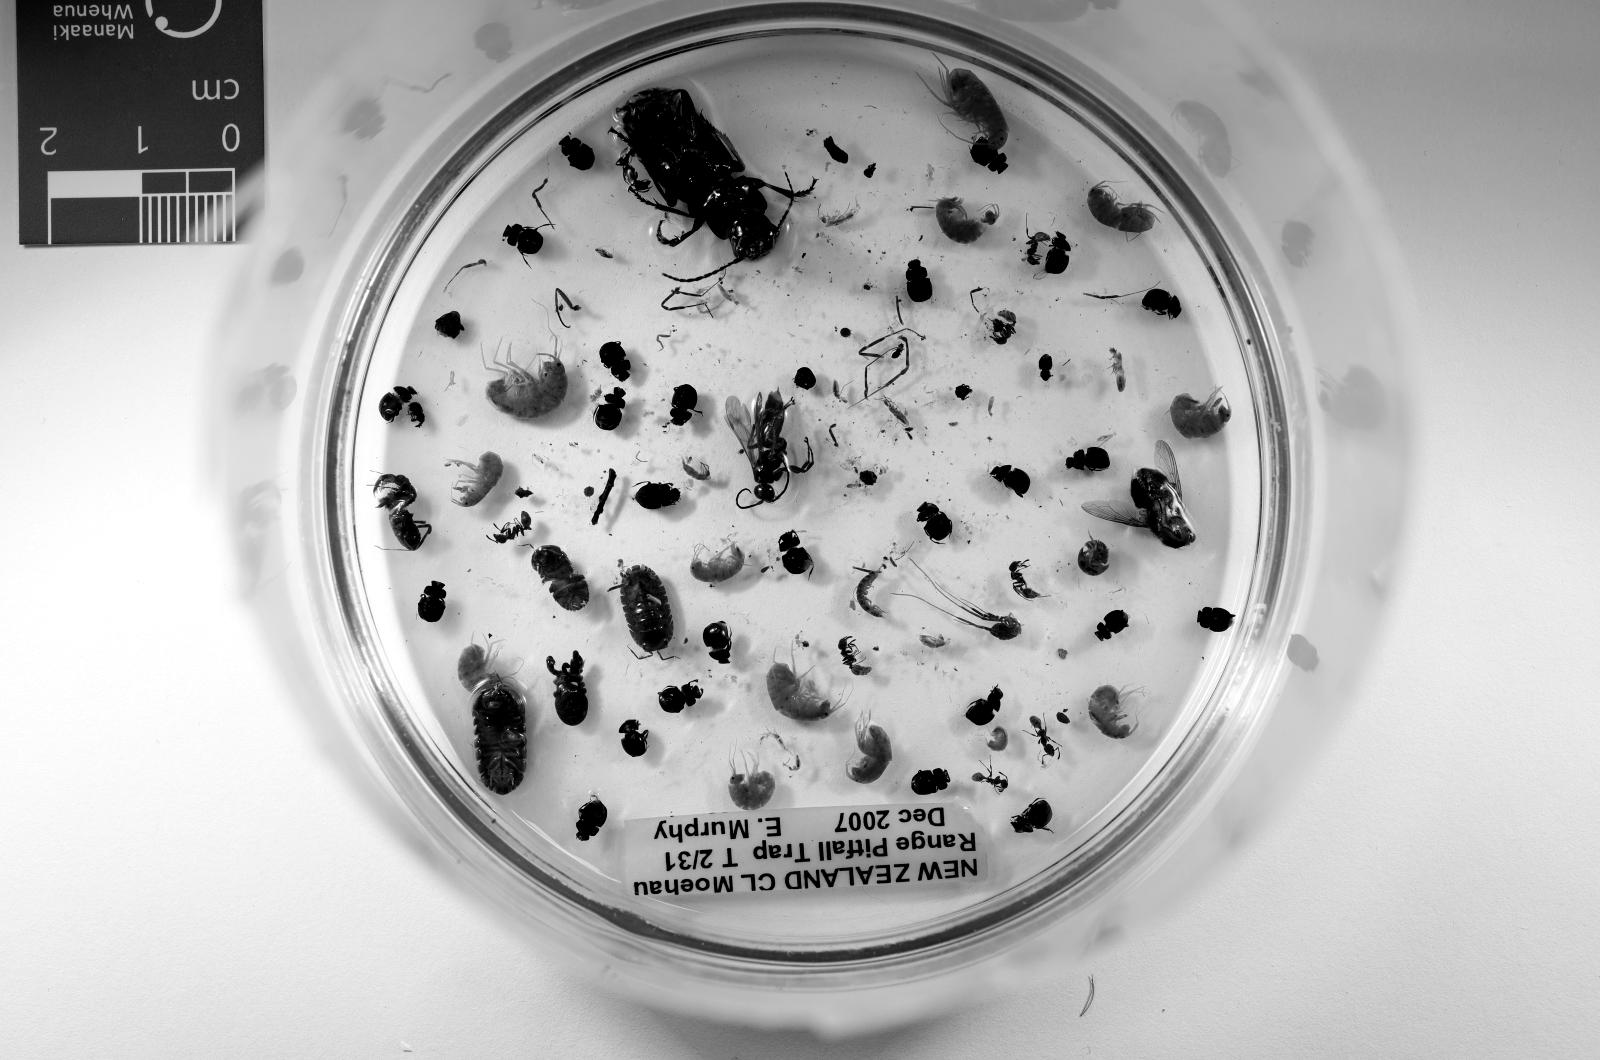amphipoda: (934, 62, 1010, 149), (485, 344, 569, 419), (765, 646, 847, 720), (1088, 183, 1157, 233), (847, 711, 890, 783), (1168, 388, 1231, 438), (934, 199, 1000, 245), (447, 453, 503, 506), (1088, 686, 1138, 739), (691, 543, 744, 584), (456, 642, 500, 692), (728, 764, 775, 810), (987, 726, 1010, 751)
carabidae: (618, 88, 778, 260)
coleoptera: (915, 503, 953, 543), (778, 531, 812, 575), (660, 680, 704, 715), (966, 686, 1003, 726), (503, 224, 544, 258), (1012, 799, 1054, 833), (594, 388, 626, 432), (969, 137, 1006, 174), (578, 795, 607, 841), (634, 481, 681, 509), (600, 342, 631, 382), (559, 134, 594, 170), (378, 388, 415, 422), (419, 581, 447, 625), (991, 466, 1031, 497), (704, 621, 731, 665), (906, 260, 934, 302), (618, 720, 650, 757), (1141, 289, 1181, 317), (669, 386, 697, 426), (1044, 233, 1071, 273), (1065, 447, 1109, 472), (913, 767, 950, 795), (1197, 608, 1235, 634), (1097, 608, 1128, 640), (407, 401, 425, 428), (1037, 354, 1054, 382)
collembola: (822, 202, 860, 227), (681, 457, 710, 481), (1109, 348, 1125, 392), (919, 634, 947, 649)
diptera: (1081, 441, 1197, 550)
formicidae: (837, 636, 872, 677), (1028, 715, 1060, 757), (487, 512, 531, 543), (1010, 562, 1041, 600), (972, 767, 1010, 791), (1025, 230, 1050, 267), (991, 310, 1016, 344)
hymenoptera: (725, 392, 812, 509)
isopoda: (609, 558, 675, 655), (472, 684, 525, 795), (531, 547, 590, 612), (856, 568, 885, 618), (1078, 537, 1109, 575)
opiliones: (934, 584, 1022, 640), (375, 476, 432, 550), (546, 652, 588, 726)
